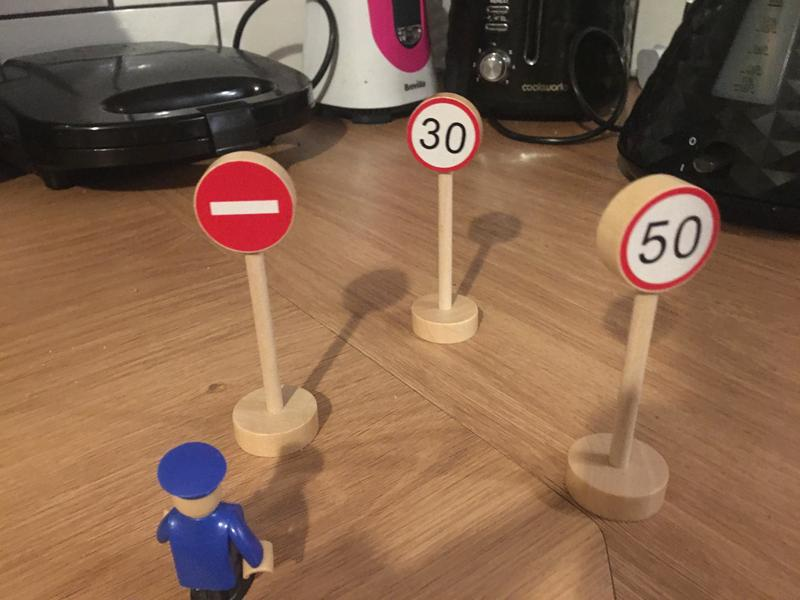Traffic_Sign_30: (406, 97, 480, 172)
Traffic_Sign_50: (620, 187, 720, 293)
Traffic_Sign_No_Entry: (194, 163, 293, 253)
person: (153, 441, 276, 600)
